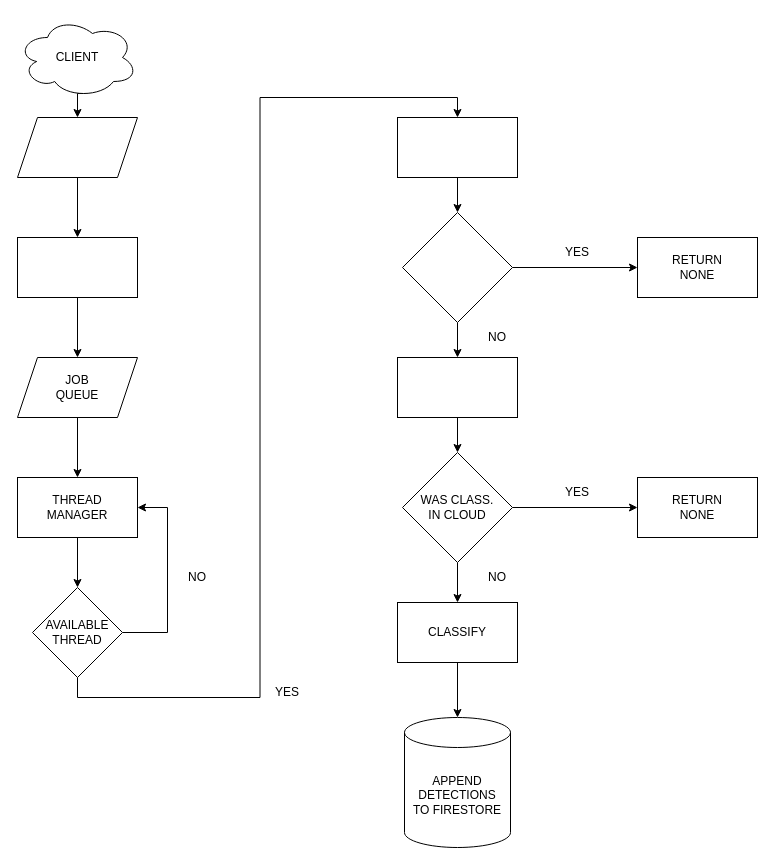
Some shapes in this 775 by 865 pixel diagram are drawn without their labels. Each missing label, with the centre of its shape:
DOWNLOAD TEMPORAL FILE: [457,387]
INIT TASK: [457,147]
JOB MANAGER: [77,267]
JOB PETITION: [77,147]
WERE FILES PROCESSED: [457,267]
